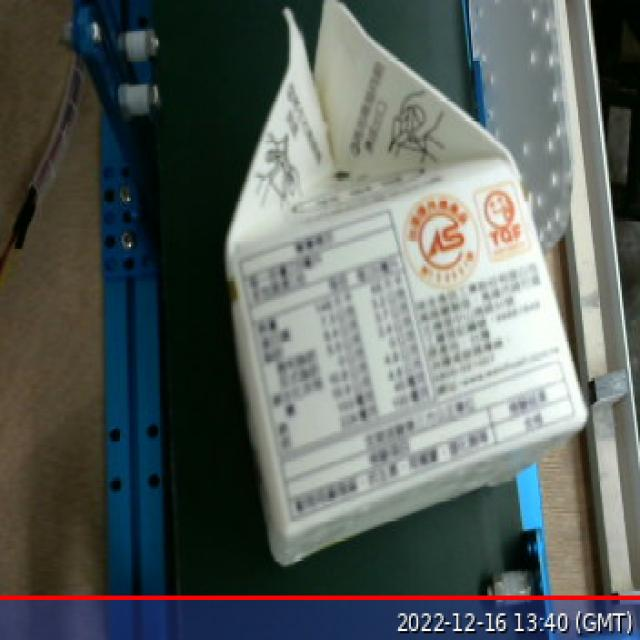non_white_jug: (212, 0, 603, 582)
